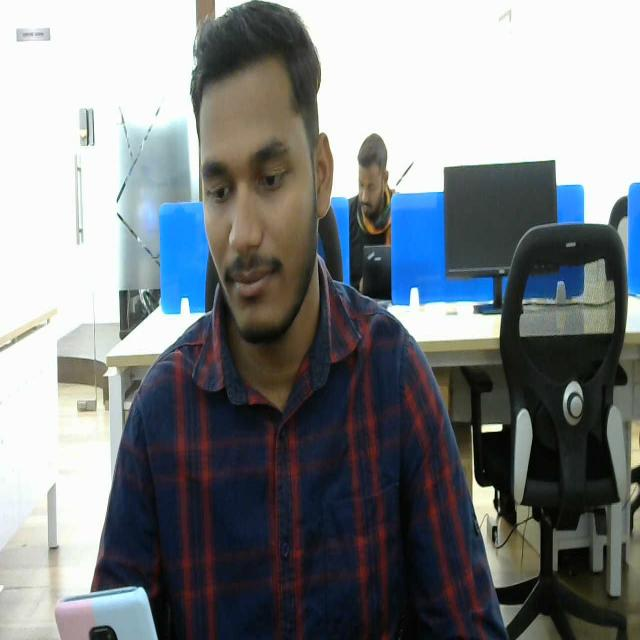phone: (52, 586, 161, 638)
